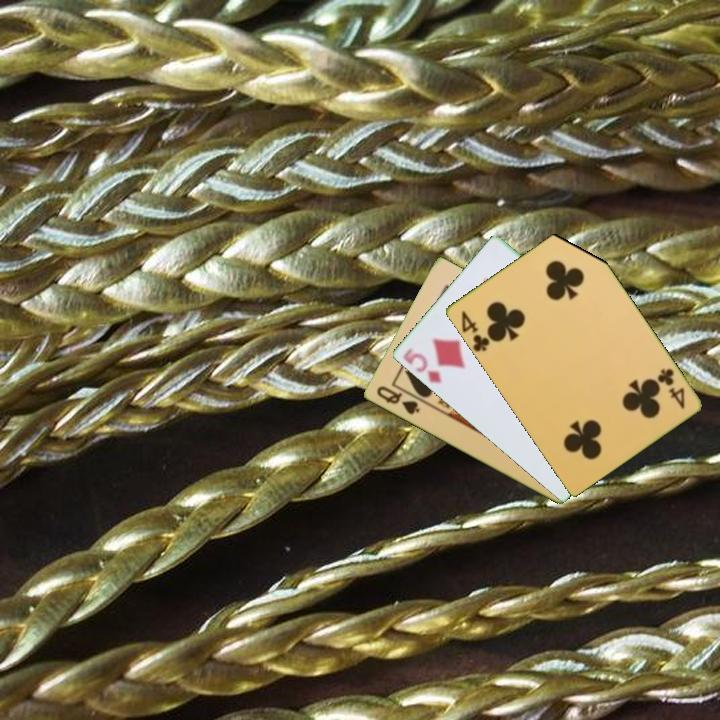4c: (457, 307, 492, 355), (653, 365, 687, 412)
5d: (399, 344, 444, 386)
Qs: (373, 382, 422, 418)
